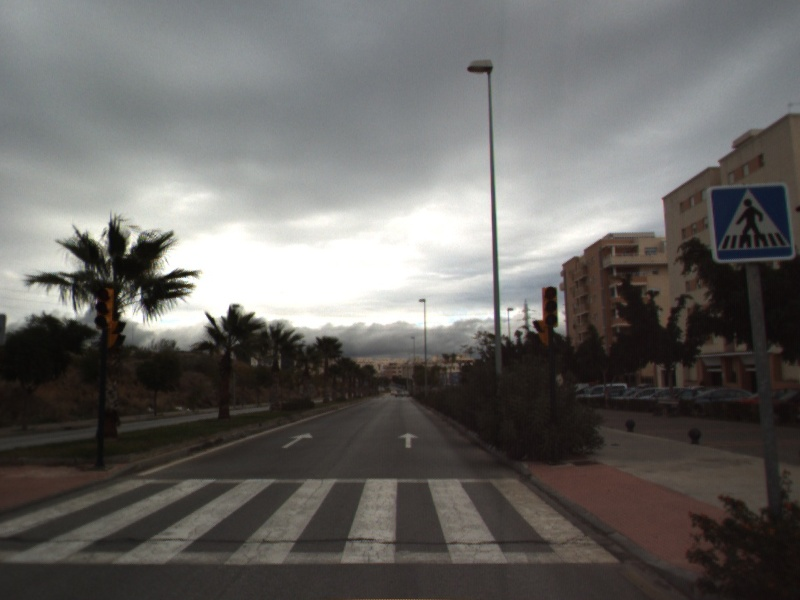STRAIGHT: (280, 430, 315, 450), (396, 430, 420, 450)
